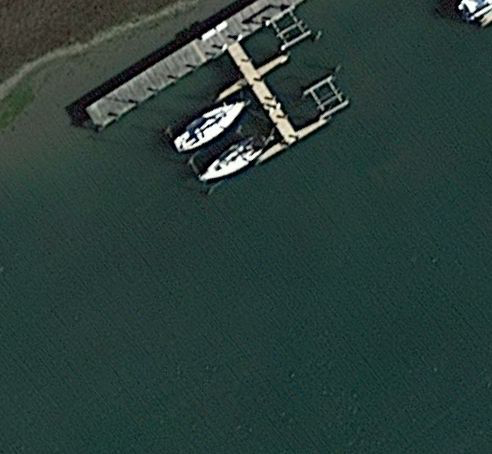boat: (198, 128, 278, 192), (170, 99, 247, 155)
